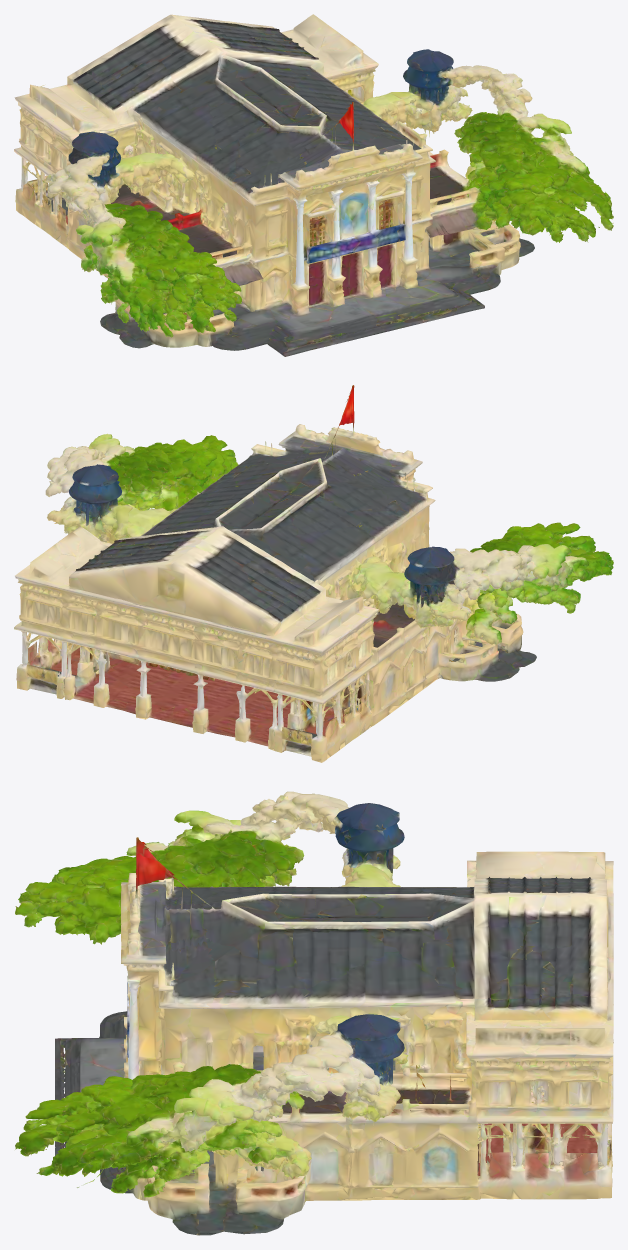
The model's file is nhahat.glb.
The picture shows the model from 3 angles, top to bottom: view 1: azimuth 30°, elevation 25°; view 2: azimuth 150°, elevation 25°; view 3: azimuth 270°, elevation 25°; orthographic projection. The views are drawn at different scales.
Bounding box in the file's own units: 1.89 × 0.8471 × 1.59.
1 material, 1 textured.
